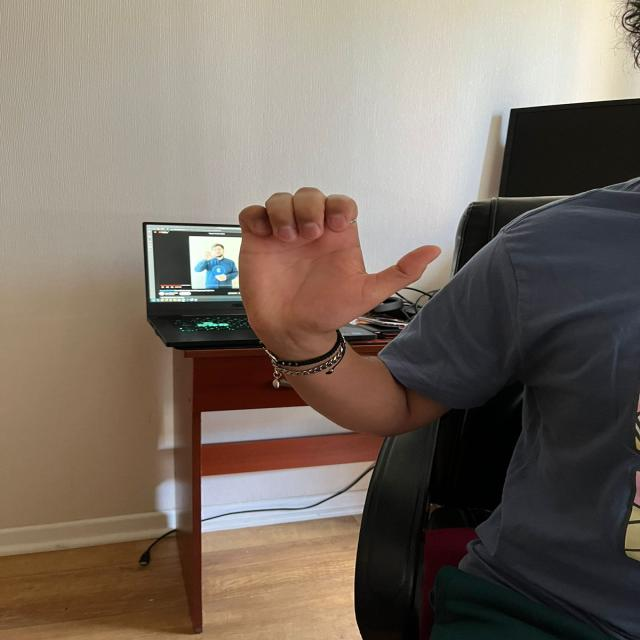E: (231, 179, 437, 338)
